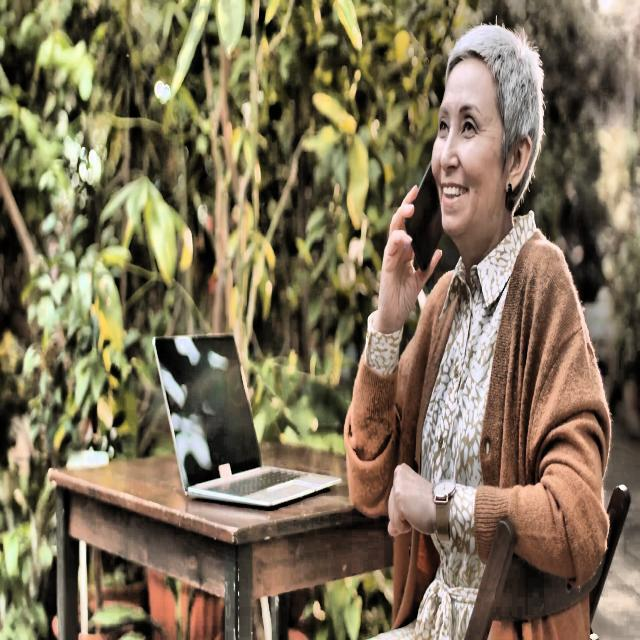Phone: (404, 156, 443, 276)
